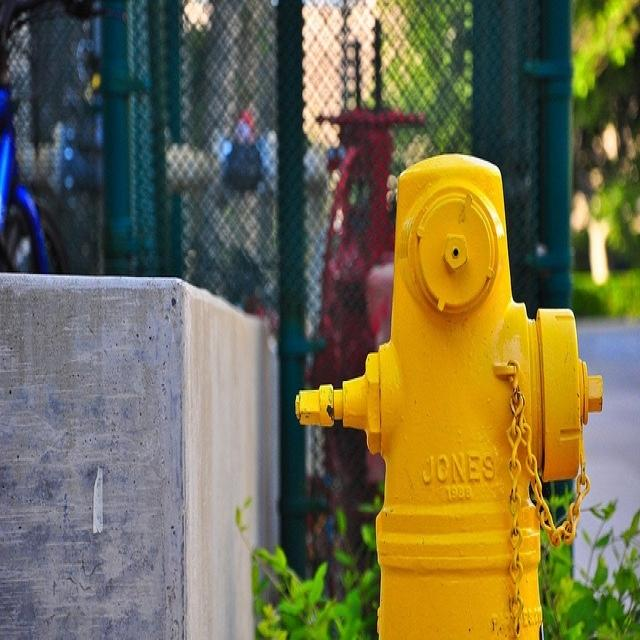fire_hydrant: (336, 128, 579, 632)
